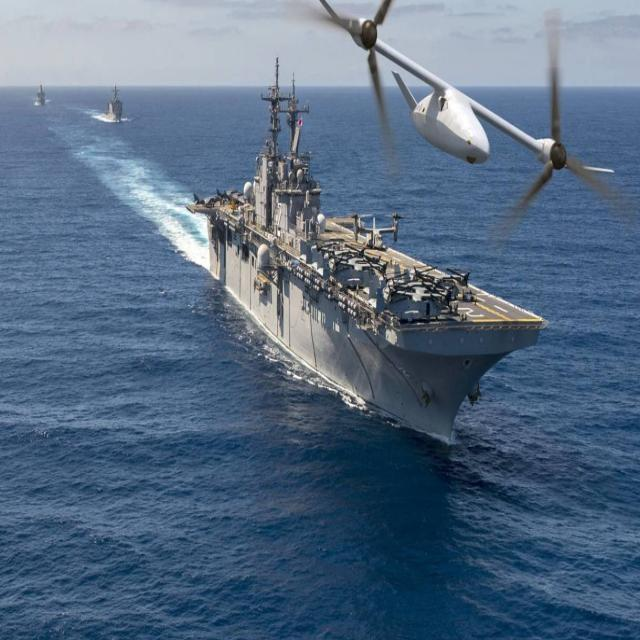navalvessels: (200, 59, 540, 466), (95, 72, 124, 131), (33, 77, 49, 116)
